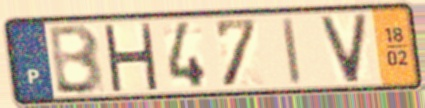4: (166, 20, 210, 91)
7: (214, 17, 261, 90)
B: (48, 22, 107, 97)
H: (100, 22, 160, 92)
I: (280, 15, 304, 87)
V: (318, 11, 371, 86)
